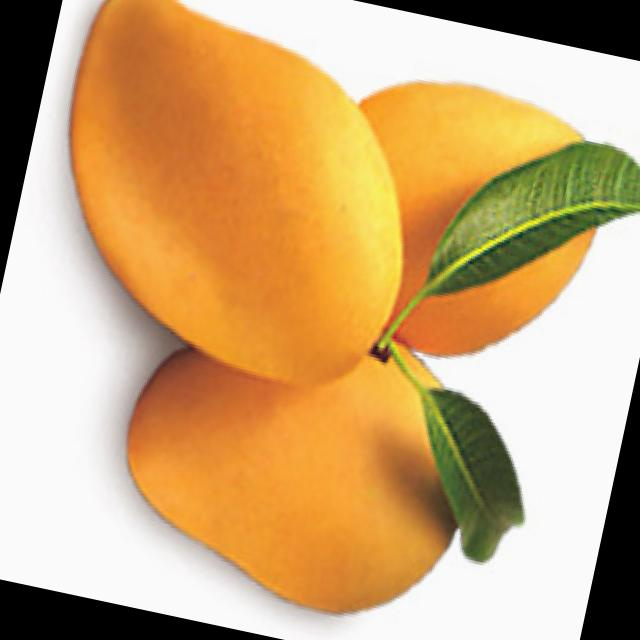mango: (19, 0, 459, 396), (96, 289, 513, 640), (310, 45, 634, 402)
